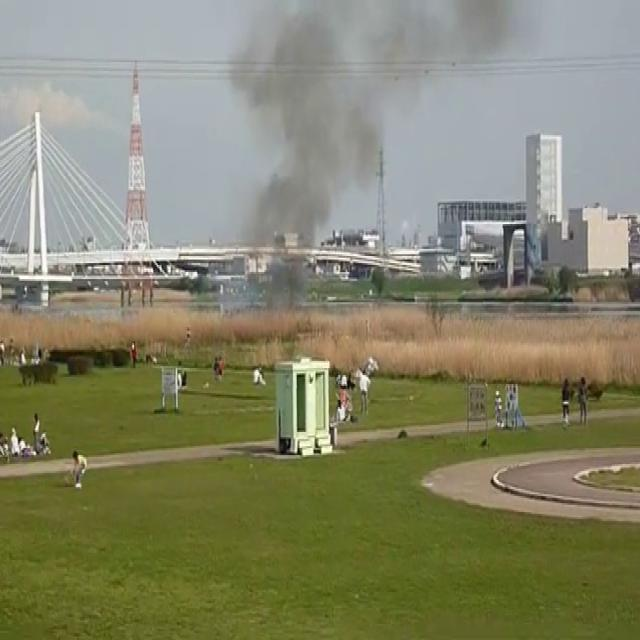Smoke: (214, 0, 433, 247)
